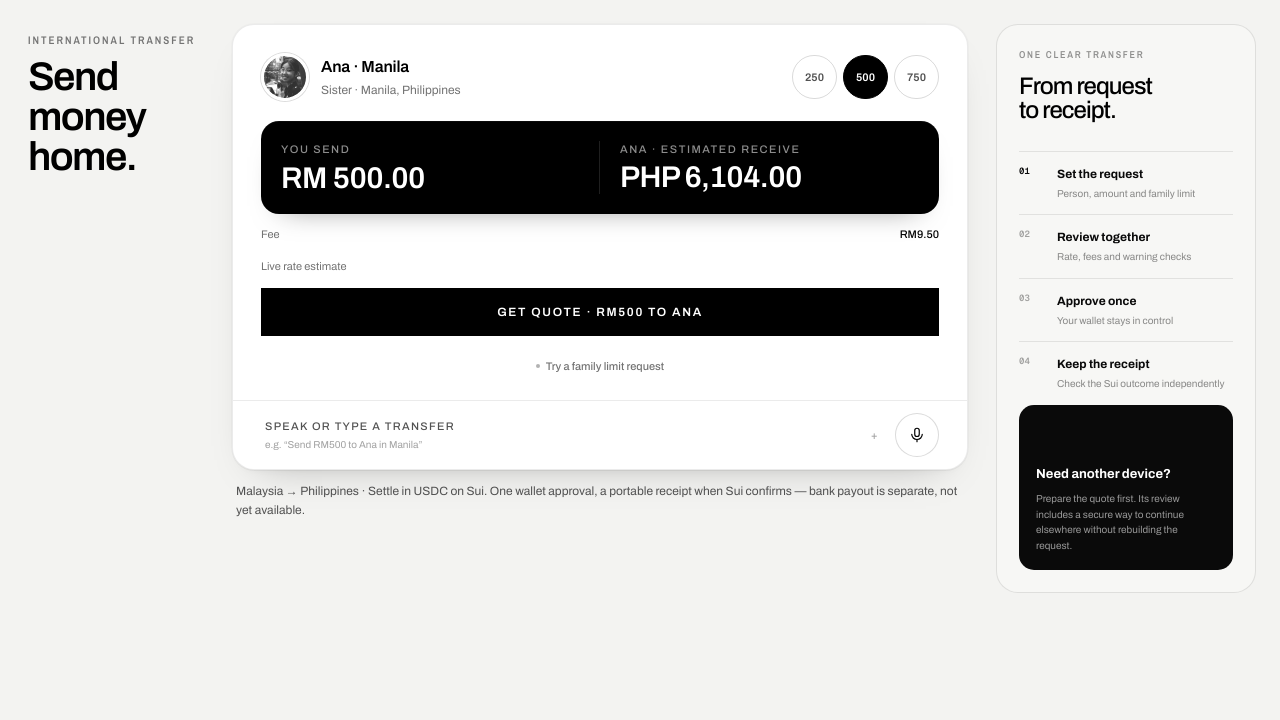
Test case: PayWorkspace — premium money sheet visual round › hides Malay and Buy nearby below the first fold — not inside the hero
What coordinates should you click on to do the following:
click the button with test id "type-request-toggle"
I would click on:
 (360, 426)
Its box is [261,413,883,457].
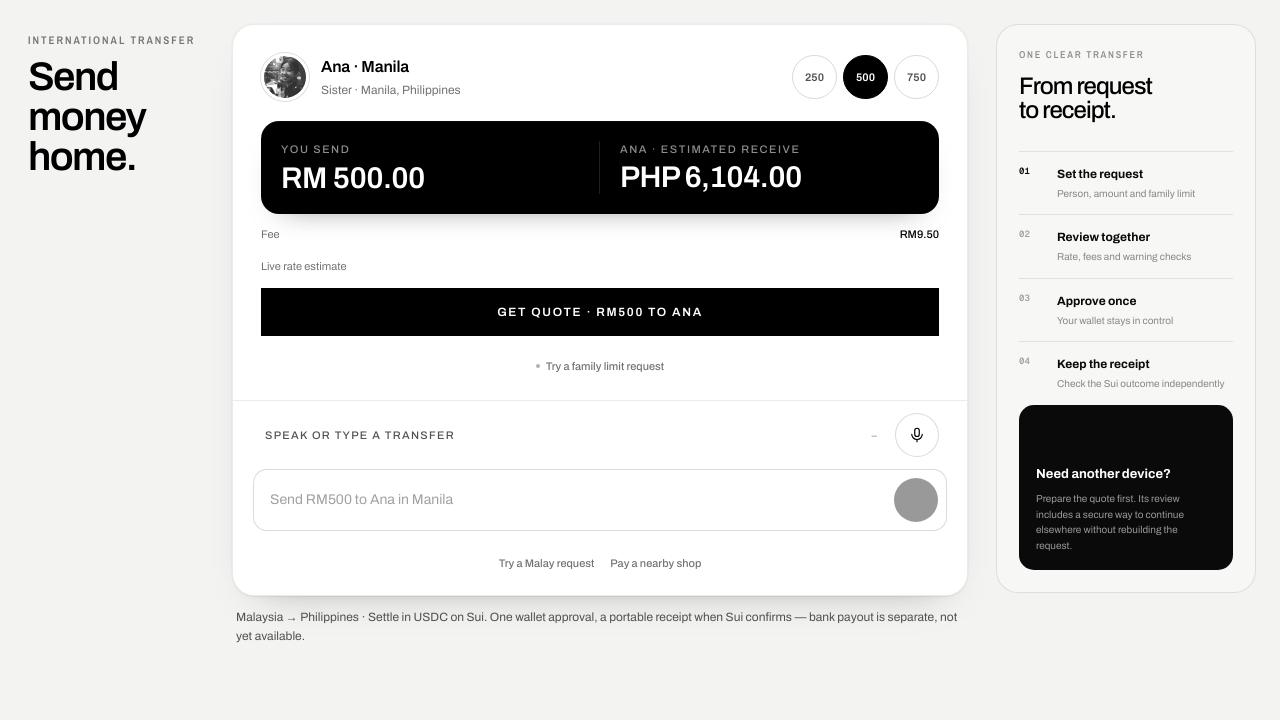
Expected: the button with test id "use-example-malay" is shown, [499,547,594,579]
Expected: the button with test id "switch-to-buy" is shown, [610,547,701,579]
